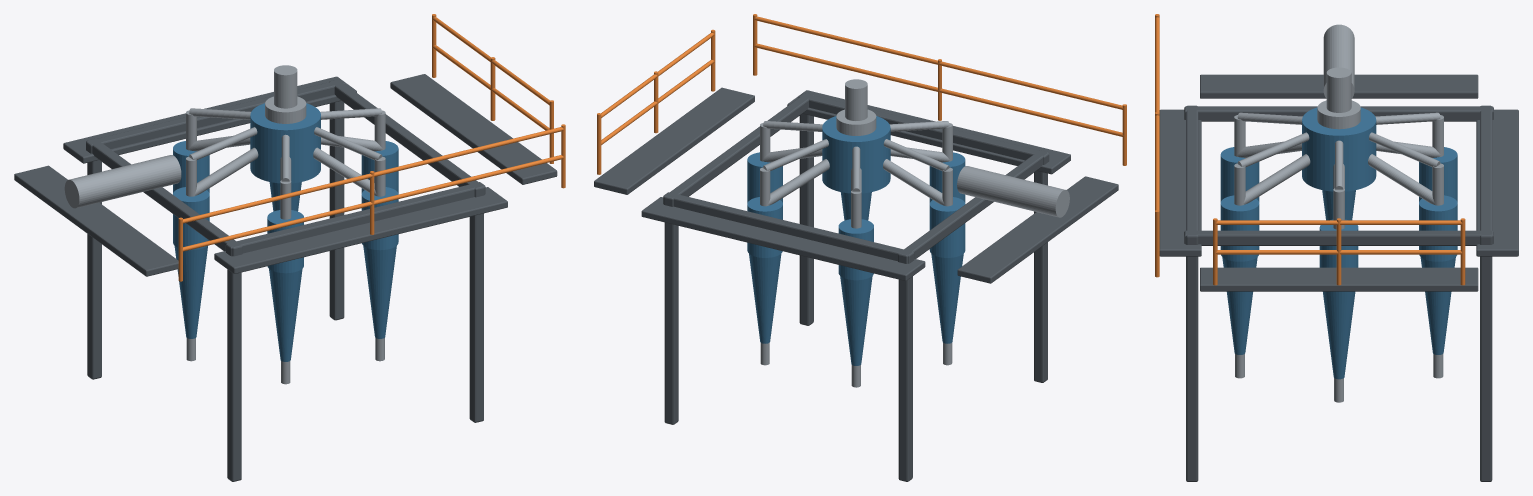
Rendered from CLASS-01.glb.
3 renders of one model, left to right at view 1: azimuth 30°, elevation 25°; view 2: azimuth 150°, elevation 25°; view 3: azimuth 270°, elevation 25°, orthographic. The views are drawn at different scales.
Visible parts, largest first — view 1: CLASS-01, CLASS-01_FEED_MANIFOLD, CLASS-01_FRAME_BEAM_X_-1.9, CLASS-01_FEED_INLET, CLASS-01_FRAME_LEG_-1.9_-1.9, CLASS-01_FRAME_LEG_+1.9_-1.9, CLASS-01_FRAME_BEAM_X_+1.9, CLASS-01_FRAME_LEG_+1.9_+1.9, CLASS-01_FRAME_BEAM_Y_+1.9, CLASS-01_FRAME_LEG_-1.9_+1.9, CLASS-01_FRAME_BEAM_Y_-1.9, CLASS-01_CYCLONE_06_CONE (+11 smaller); view 2: CLASS-01, CLASS-01_FEED_MANIFOLD, CLASS-01_FRAME_BEAM_X_+1.9, CLASS-01_FEED_INLET, CLASS-01_FRAME_LEG_-1.9_+1.9, CLASS-01_FRAME_LEG_+1.9_+1.9, CLASS-01_FRAME_BEAM_Y_+1.9, CLASS-01_FRAME_BEAM_X_-1.9, CLASS-01_FRAME_LEG_+1.9_-1.9, CLASS-01_FRAME_LEG_-1.9_-1.9, CLASS-01_FRAME_BEAM_Y_-1.9, CLASS-01_CYCLONE_03_CONE (+11 smaller); view 3: CLASS-01, CLASS-01_FRAME_BEAM_Y_+1.9, CLASS-01_FEED_MANIFOLD, CLASS-01_FRAME_LEG_+1.9_-1.9, CLASS-01_FRAME_LEG_+1.9_+1.9, CLASS-01_FRAME_BEAM_Y_-1.9, CLASS-01_CYCLONE_01_CONE, CLASS-01_FRAME_BEAM_X_-1.9, CLASS-01_FRAME_BEAM_X_+1.9, CLASS-01_FEED_INLET, CLASS-01_CYCLONE_02_CONE, CLASS-01_CYCLONE_06_CONE (+17 smaller).
Part boxes in pixels (x1=…): CLASS-01: x1=14, y1=14, x2=565, y2=281; CLASS-01_FEED_MANIFOLD: x1=250, y1=103, x2=320, y2=183; CLASS-01_FRAME_BEAM_X_-1.9: x1=225, y1=182, x2=485, y2=256; CLASS-01_FEED_INLET: x1=64, y1=155, x2=181, y2=208; CLASS-01_FRAME_LEG_-1.9_-1.9: x1=227, y1=269, x2=241, y2=481; CLASS-01_FRAME_LEG_+1.9_-1.9: x1=469, y1=213, x2=483, y2=422; CLASS-01_FRAME_BEAM_X_+1.9: x1=86, y1=79, x2=345, y2=153; CLASS-01_FRAME_LEG_+1.9_+1.9: x1=329, y1=101, x2=344, y2=320; CLASS-01_FRAME_BEAM_Y_+1.9: x1=329, y1=79, x2=484, y2=197; CLASS-01_FRAME_LEG_-1.9_+1.9: x1=87, y1=160, x2=101, y2=379; CLASS-01_FRAME_BEAM_Y_-1.9: x1=86, y1=138, x2=242, y2=256; CLASS-01_CYCLONE_06_CONE: x1=363, y1=246, x2=396, y2=338; CLASS-01: x1=594, y1=14, x2=1126, y2=283; CLASS-01_FEED_MANIFOLD: x1=822, y1=116, x2=890, y2=193; CLASS-01_FRAME_BEAM_X_+1.9: x1=663, y1=192, x2=914, y2=263; CLASS-01_FEED_INLET: x1=957, y1=166, x2=1069, y2=217; CLASS-01_FRAME_LEG_-1.9_+1.9: x1=898, y1=276, x2=912, y2=481; CLASS-01_FRAME_LEG_+1.9_+1.9: x1=664, y1=222, x2=678, y2=424; CLASS-01_FRAME_BEAM_Y_+1.9: x1=663, y1=93, x2=814, y2=206; CLASS-01_FRAME_BEAM_X_-1.9: x1=798, y1=93, x2=1049, y2=164; CLASS-01_FRAME_LEG_+1.9_-1.9: x1=799, y1=113, x2=813, y2=325; CLASS-01_FRAME_LEG_-1.9_-1.9: x1=1034, y1=171, x2=1047, y2=382; CLASS-01_FRAME_BEAM_Y_-1.9: x1=898, y1=150, x2=1048, y2=263; CLASS-01_CYCLONE_03_CONE: x1=840, y1=276, x2=872, y2=365; CLASS-01: x1=1155, y1=14, x2=1518, y2=291; CLASS-01_FRAME_BEAM_Y_+1.9: x1=1184, y1=230, x2=1493, y2=245; CLASS-01_FEED_MANIFOLD: x1=1302, y1=107, x2=1376, y2=191; CLASS-01_FRAME_LEG_+1.9_-1.9: x1=1186, y1=256, x2=1198, y2=481; CLASS-01_FRAME_LEG_+1.9_+1.9: x1=1480, y1=256, x2=1492, y2=481; CLASS-01_FRAME_BEAM_Y_-1.9: x1=1184, y1=106, x2=1493, y2=121; CLASS-01_CYCLONE_01_CONE: x1=1323, y1=291, x2=1355, y2=379; CLASS-01_FRAME_BEAM_X_-1.9: x1=1186, y1=105, x2=1198, y2=244; CLASS-01_FRAME_BEAM_X_+1.9: x1=1480, y1=105, x2=1492, y2=244; CLASS-01_FEED_INLET: x1=1323, y1=24, x2=1354, y2=98; CLASS-01_CYCLONE_02_CONE: x1=1420, y1=257, x2=1455, y2=354; CLASS-01_CYCLONE_06_CONE: x1=1222, y1=257, x2=1257, y2=354.
Size of the model in its own units: 6.63 by 4.93 by 4.7.
